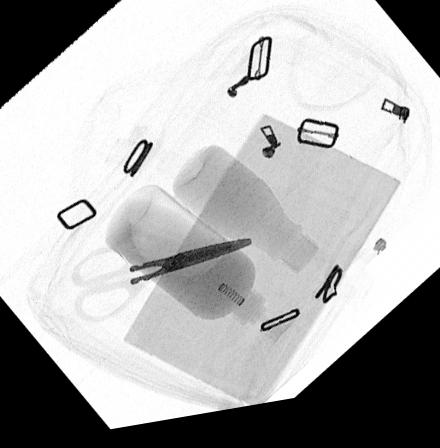Scissors: (68, 245, 253, 328)
